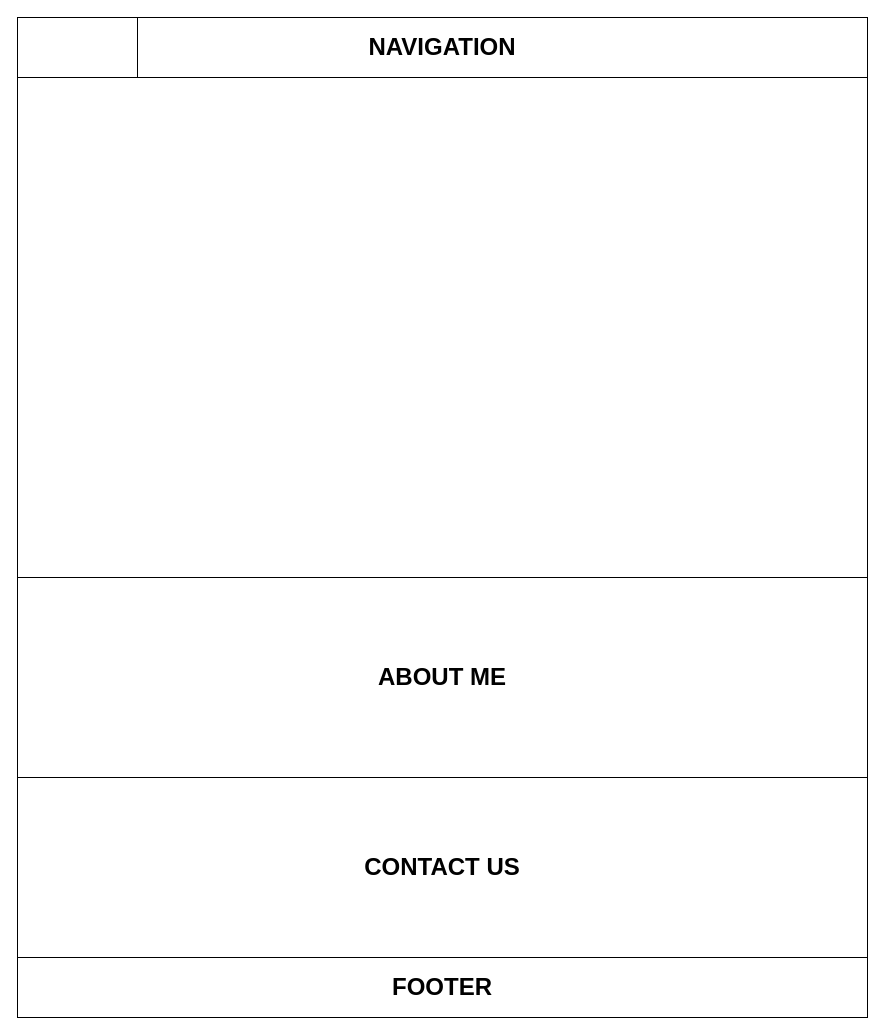
This 885x1035 diagram has some shape labels left out. The box of each missing label's shape, as (x1, y1, x2, y2) in pixels:
FRONT PAGE: (16, 76, 868, 578)
LOGO: (16, 16, 138, 78)
